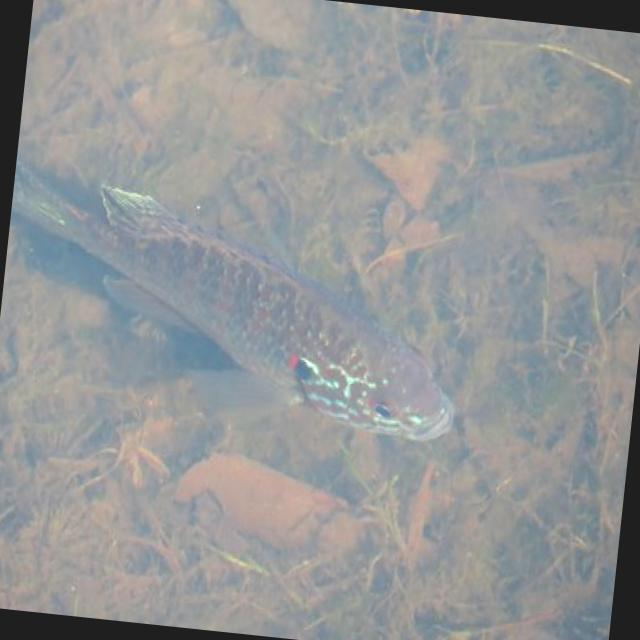Gunes Levregi: (70, 177, 480, 458)
